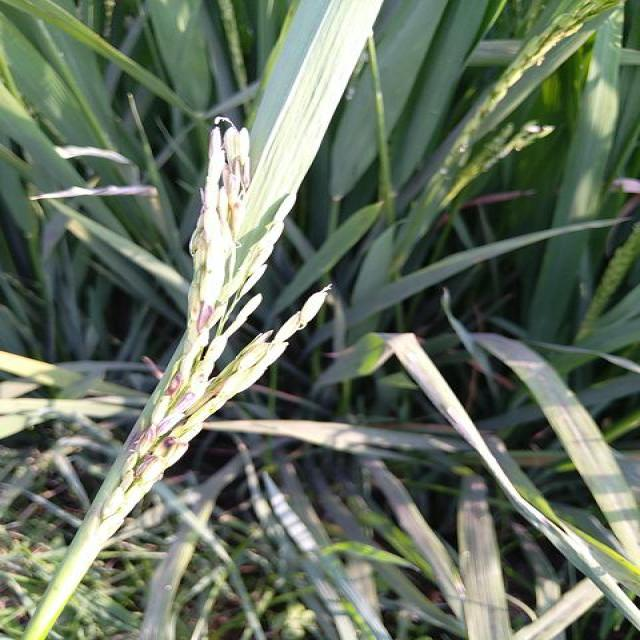Panicle Blight: (185, 290, 328, 419), (219, 121, 257, 240), (131, 425, 180, 487), (155, 374, 191, 422), (199, 300, 217, 335)
